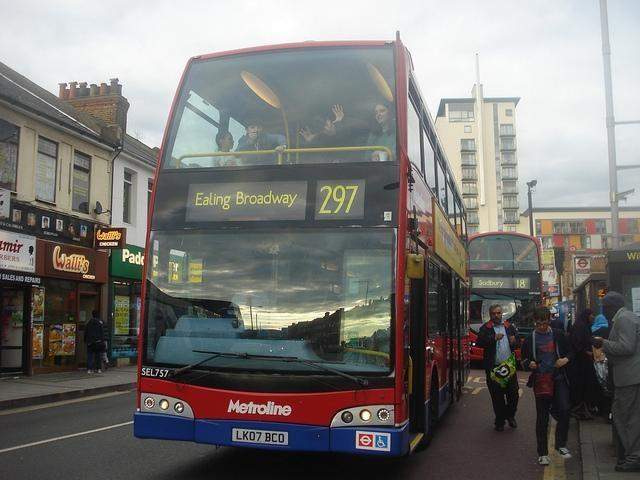bus: (132, 36, 470, 457), (468, 230, 545, 360)
